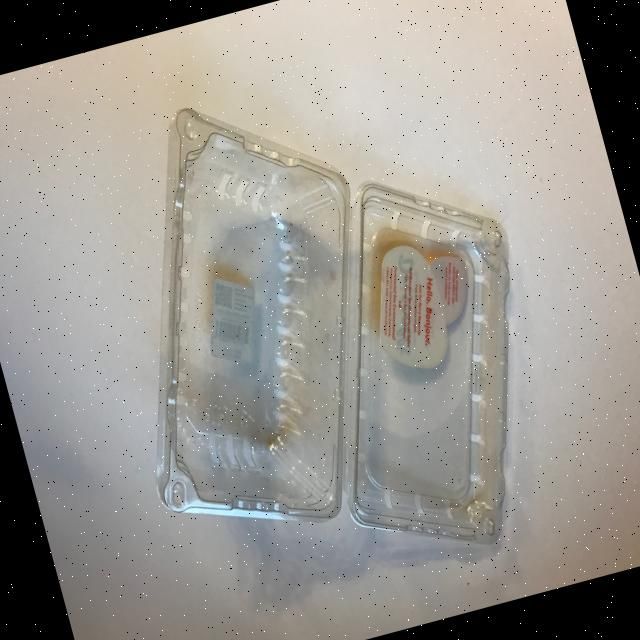plastic: (38, 12, 596, 640)
